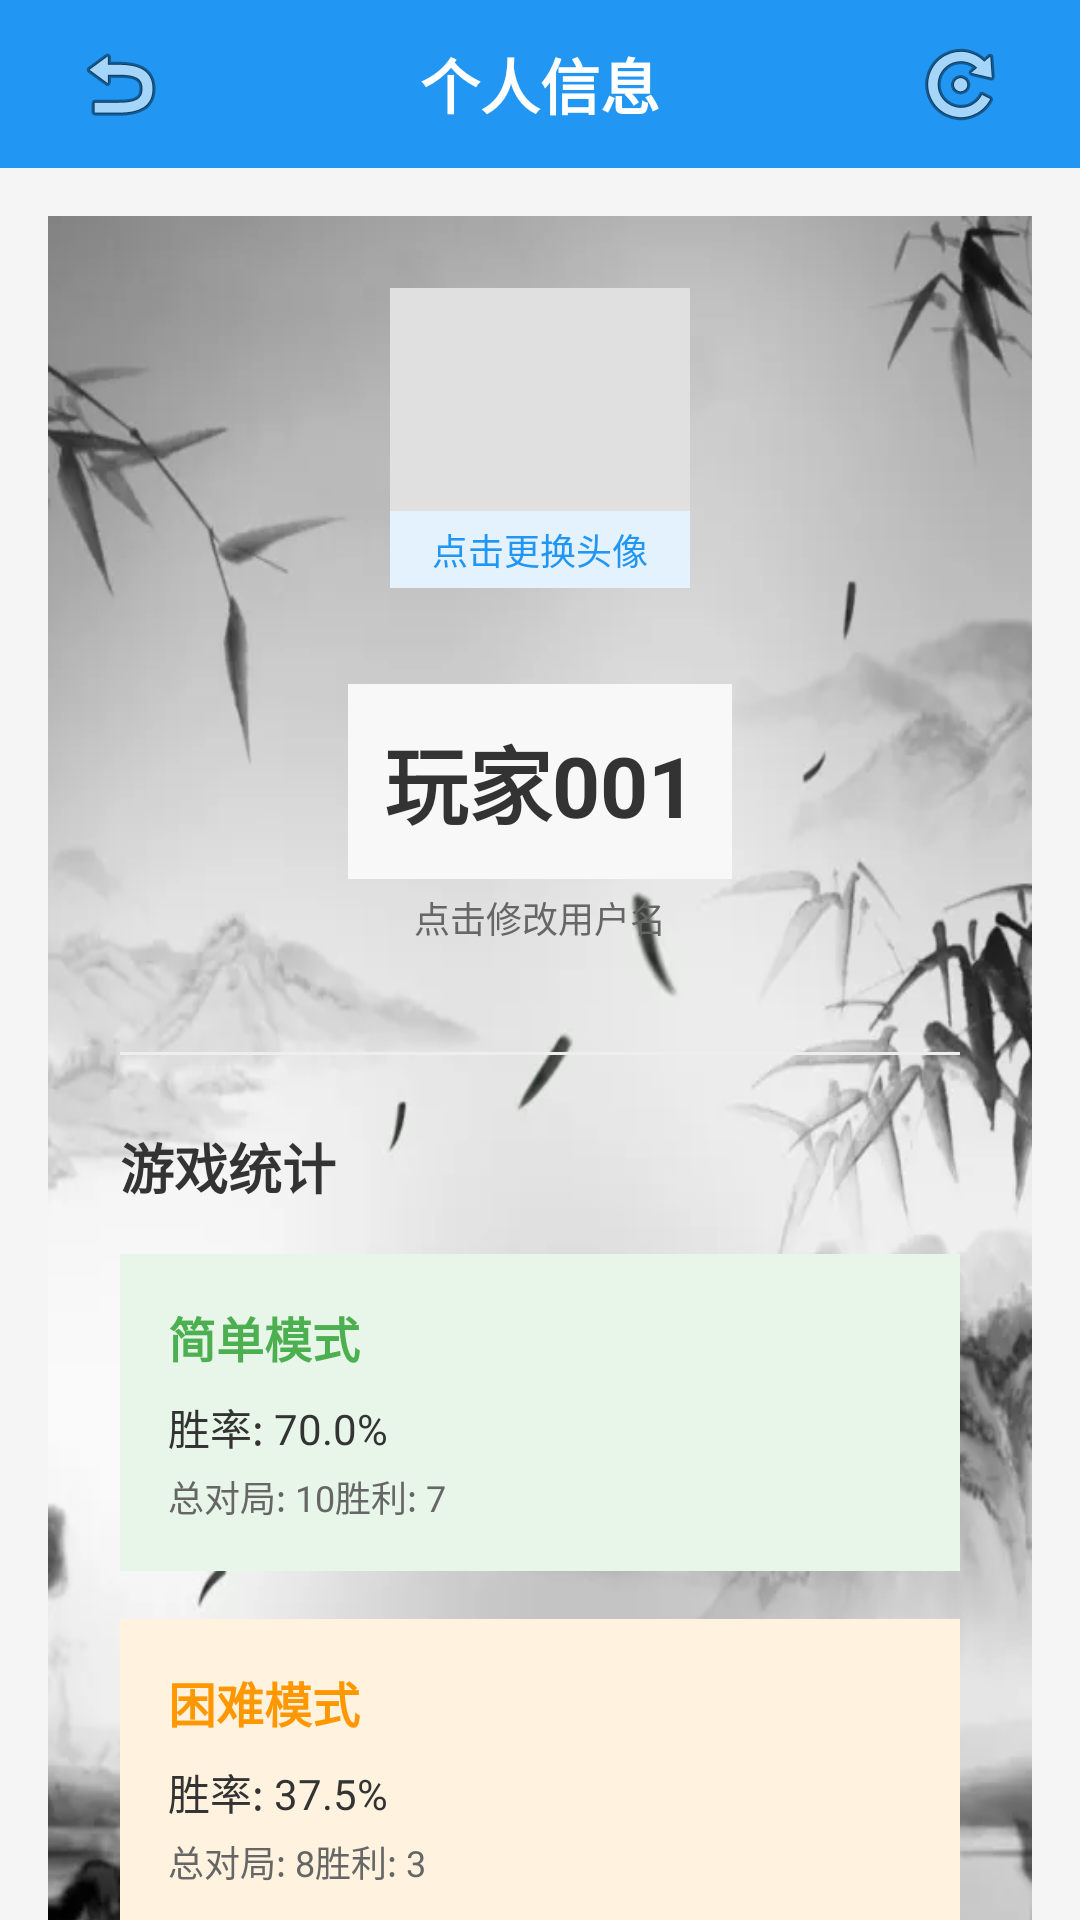

Where icons sit on this 1080*1920 app screen, as {"x1": x1, "y1": y1, "x2": x2, "y2": y2}:
返回: {"x1": 87, "y1": 53, "x2": 156, "y2": 116}
